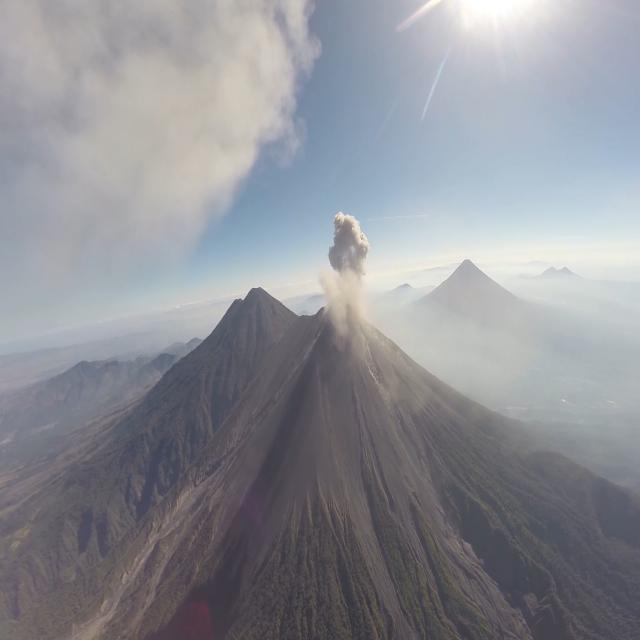Plume: (4, 0, 304, 270), (329, 204, 372, 300)
Summit: (296, 301, 412, 397)
